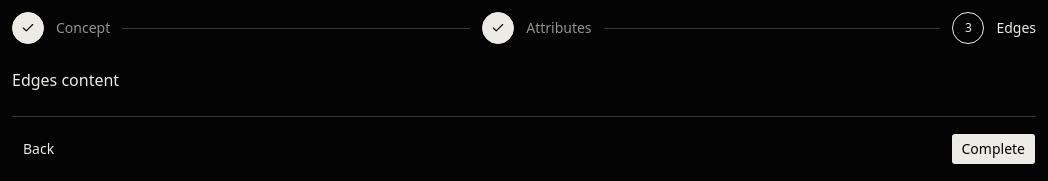
Scenario: MultiStepFlow › keeps later steps marked when going back to an earlier one
Click the button "Concept" at (61,28), box [12,12,110,44]
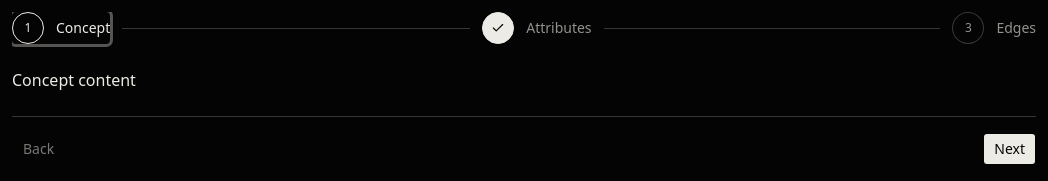
Check: the button "Attributes" is shown, box [482,12,592,44]
Check: the text "Concept content" is shown, box [12,69,136,91]
